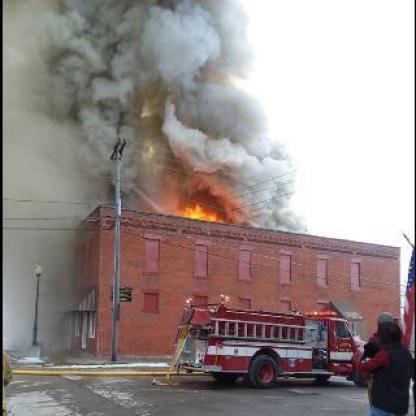fire: (171, 200, 220, 222)
